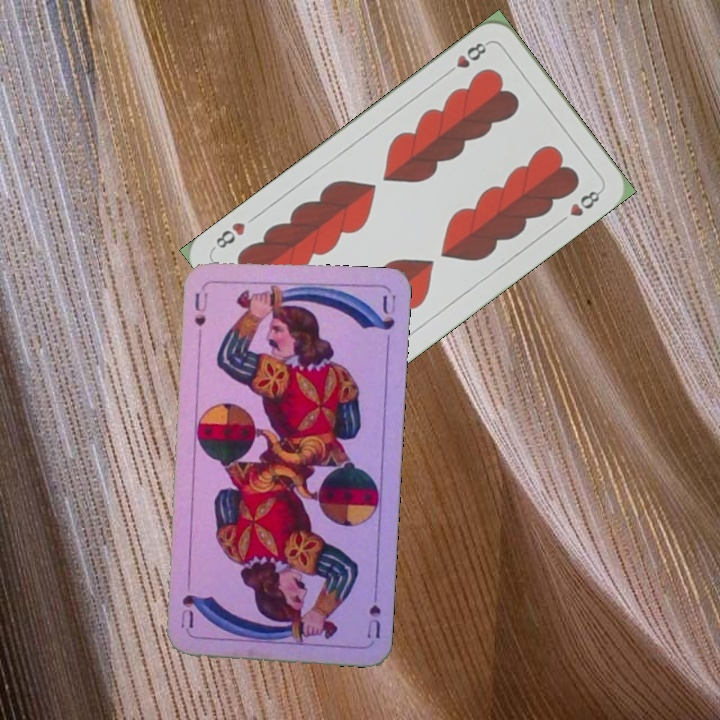H8: (441, 38, 491, 79)
SU: (363, 582, 383, 641), (190, 288, 211, 342)
